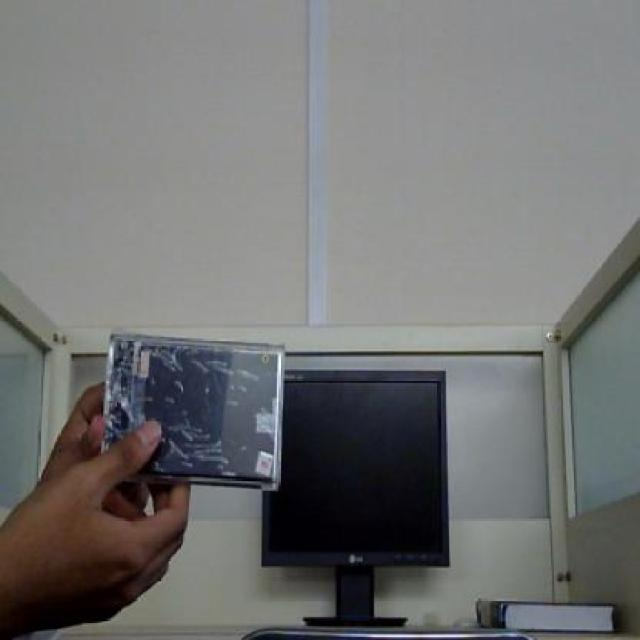Plastic: (162, 338, 279, 490)
